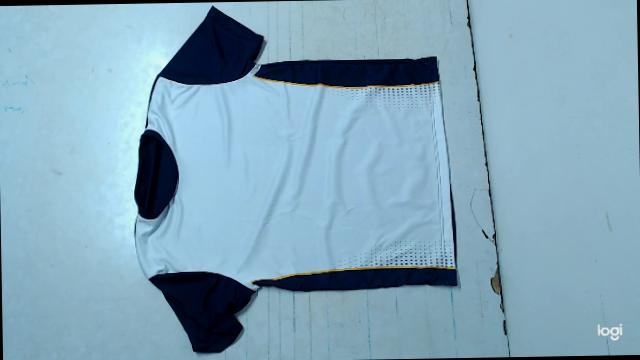new-garment: (135, 6, 457, 351)
